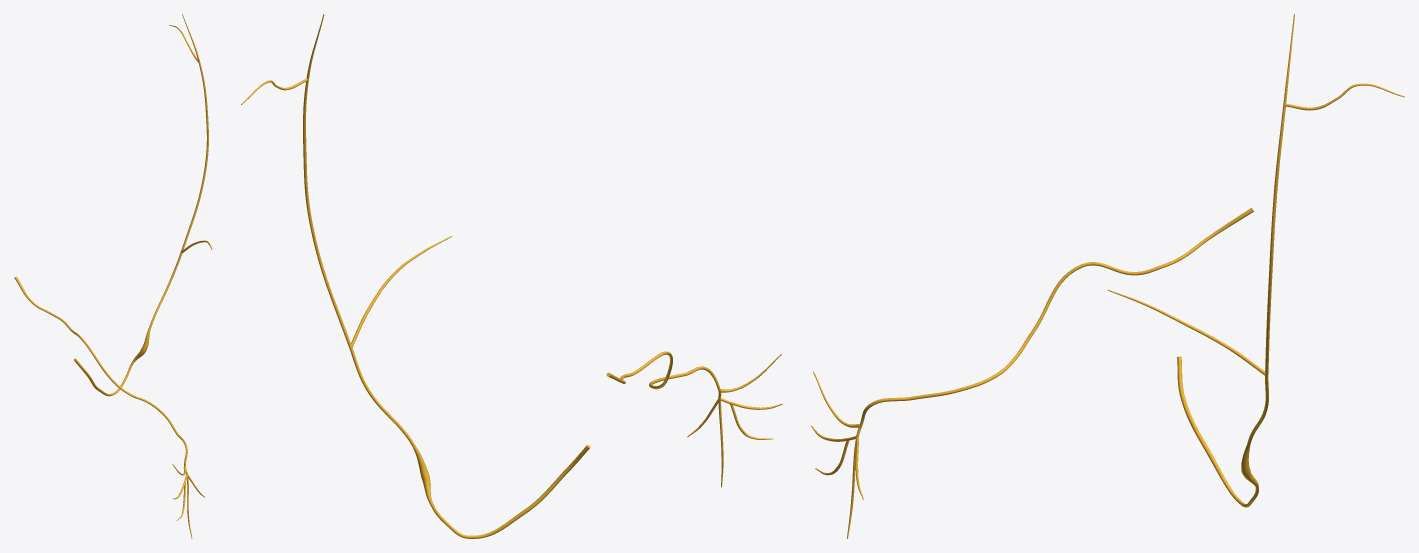
Rendered from nervoso-maxillary-nerve-l.glb.
3 views of the same model, side by side, from view 1: azimuth 30°, elevation 25°; view 2: azimuth 150°, elevation 25°; view 3: azimuth 270°, elevation 25° (orthographic). The views are drawn at different scales.
Visible parts, largest first — view 1: Meningeal branch of maxillary nerve.l, Maxillary nerve.l; view 2: Meningeal branch of maxillary nerve.l, Maxillary nerve.l; view 3: Meningeal branch of maxillary nerve.l, Maxillary nerve.l.
Part boxes in pixels (left/top/right/bottom): Meningeal branch of maxillary nerve.l: left=73, top=14, right=212, bottom=396; Maxillary nerve.l: left=14, top=276, right=205, bottom=538; Meningeal branch of maxillary nerve.l: left=241, top=14, right=590, bottom=538; Maxillary nerve.l: left=606, top=351, right=782, bottom=487; Meningeal branch of maxillary nerve.l: left=1107, top=14, right=1404, bottom=507; Maxillary nerve.l: left=811, top=208, right=1253, bottom=538.
Bounding box in the file's own units: 0.0654 × 0.1205 × 0.1035.
